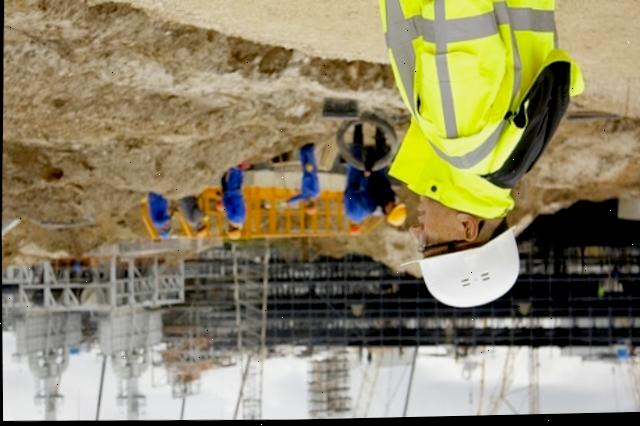helmet: (405, 219, 526, 315), (385, 204, 405, 229)
vest: (387, 0, 584, 188)
